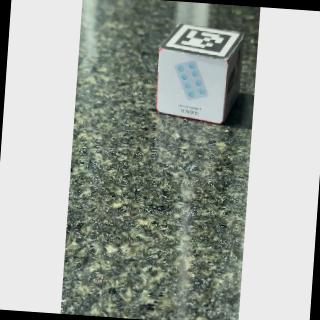Tablet: (155, 54, 227, 122)
